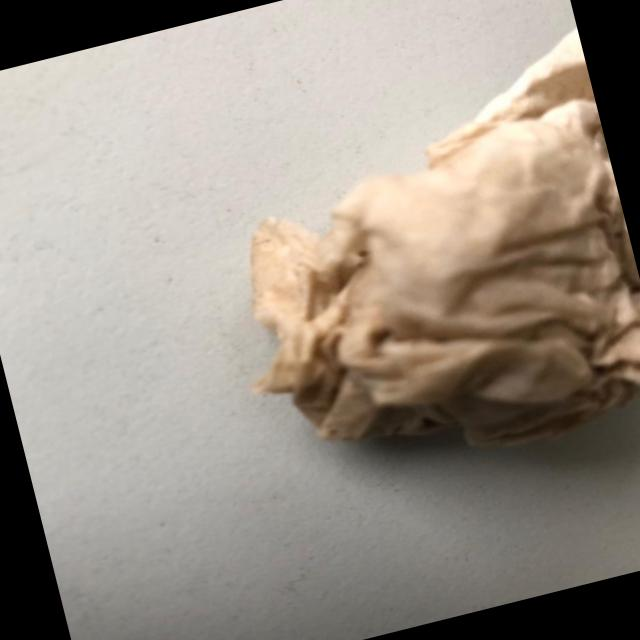organic waste: (184, 27, 640, 507)
